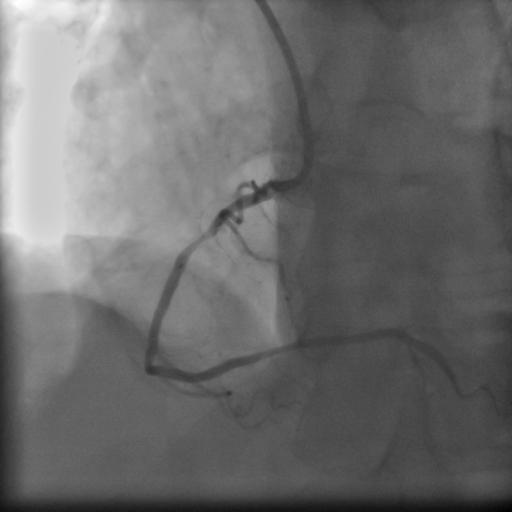Stenosis: (186, 228, 215, 250)
